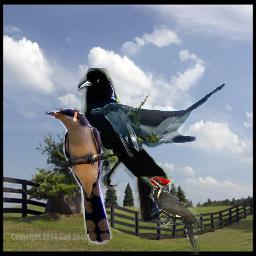Crow: (78, 68, 169, 221)
Cuckoo: (90, 81, 230, 151), (45, 108, 113, 245)
Woodpecker: (140, 176, 204, 255)
